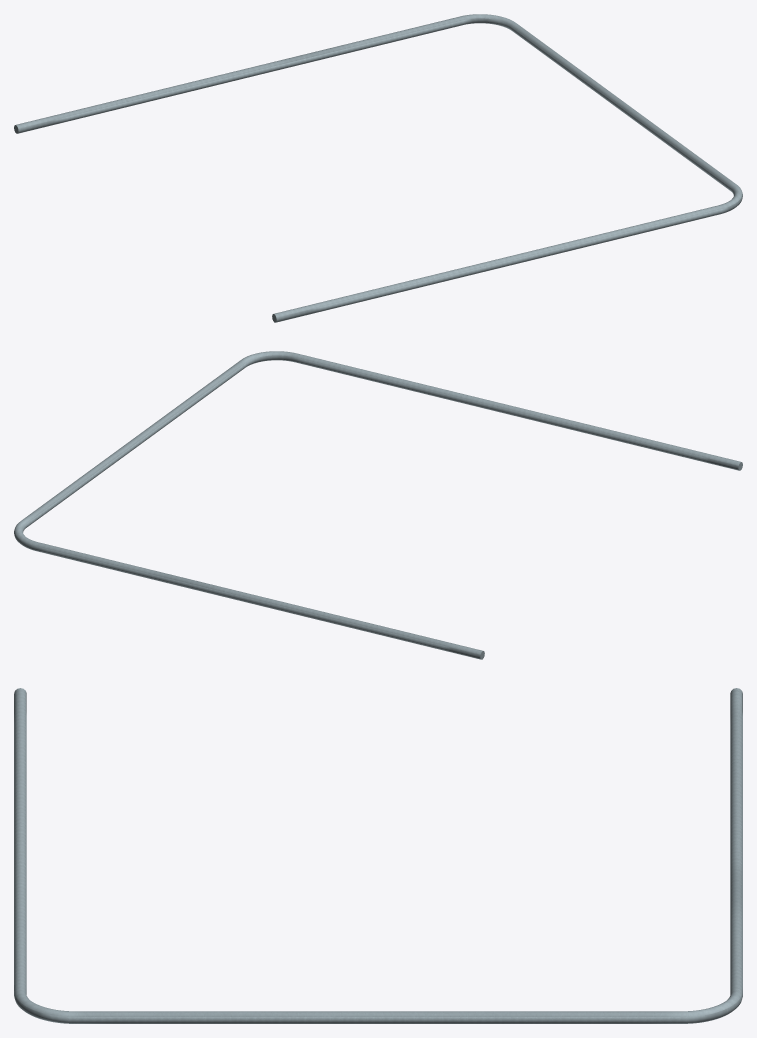
The model's file is 26-rolled-tin-rim-143.3-2.fbx.
The picture shows the model from 3 angles, top to bottom: view 1: azimuth 30°, elevation 25°; view 2: azimuth 150°, elevation 25°; view 3: azimuth 270°, elevation 25°; orthographic projection. The views are drawn at different scales.
Visible parts, largest first — view 1: rolled-tin-rim-143.3-2; view 2: rolled-tin-rim-143.3-2; view 3: rolled-tin-rim-143.3-2.
Boxes of the visible parts, x1,y1,x2,y2 form: rolled-tin-rim-143.3-2: [14, 14, 742, 322]; rolled-tin-rim-143.3-2: [14, 351, 742, 659]; rolled-tin-rim-143.3-2: [14, 688, 742, 1023].
Size of the model in its own units: 8520 by 140 by 8039.
Materials: 1 (1 with a texture image).
